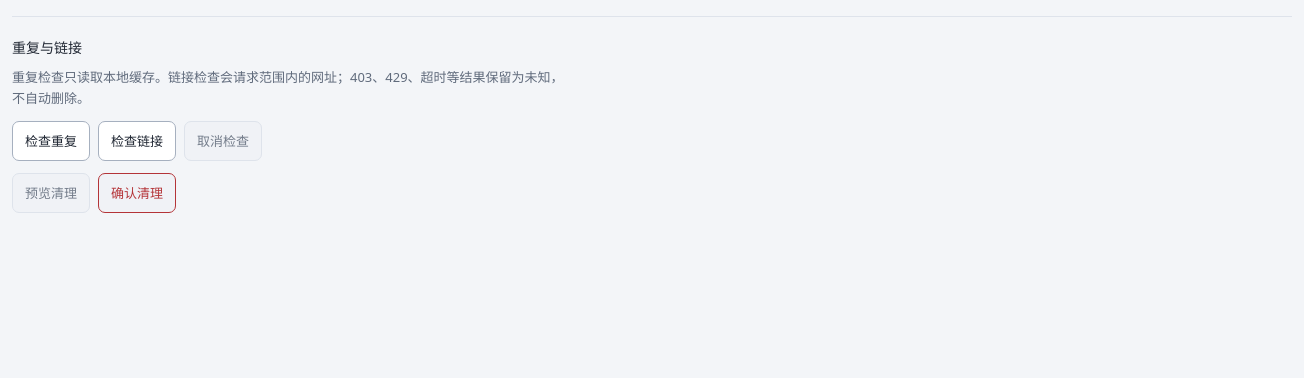
Test: R07 duplicate inspection does not claim cached link rows were freshly checked
Click the button "检查重复" at (51, 141), box top-left (12, 121), bottom-right (90, 161)
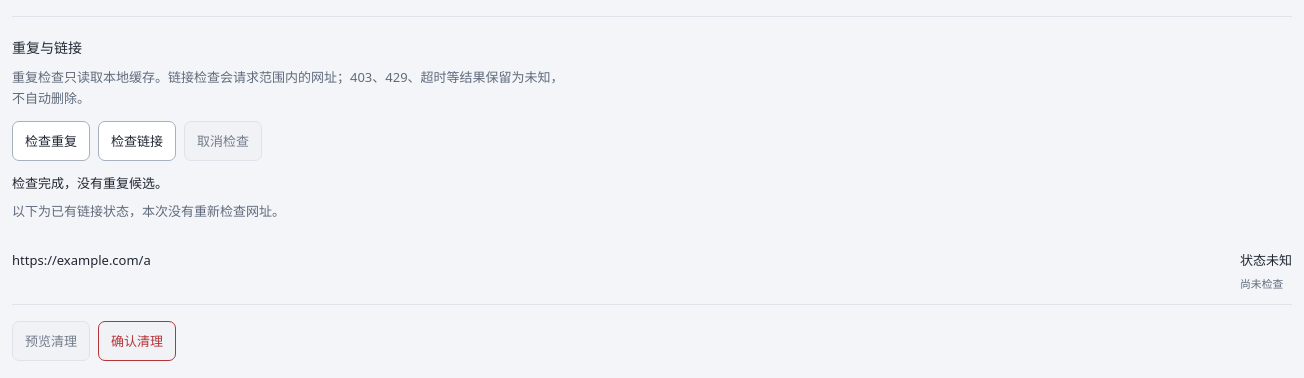
Result: the text "检查完成，没有重复候选。" is shown at top-left (12, 174), bottom-right (168, 192)
Result: the text "以下为已有链接状态，本次没有重新检查网址。" is shown at top-left (12, 202), bottom-right (285, 220)
Result: the text "尚未检查" is shown at top-left (1240, 276), bottom-right (1283, 291)
